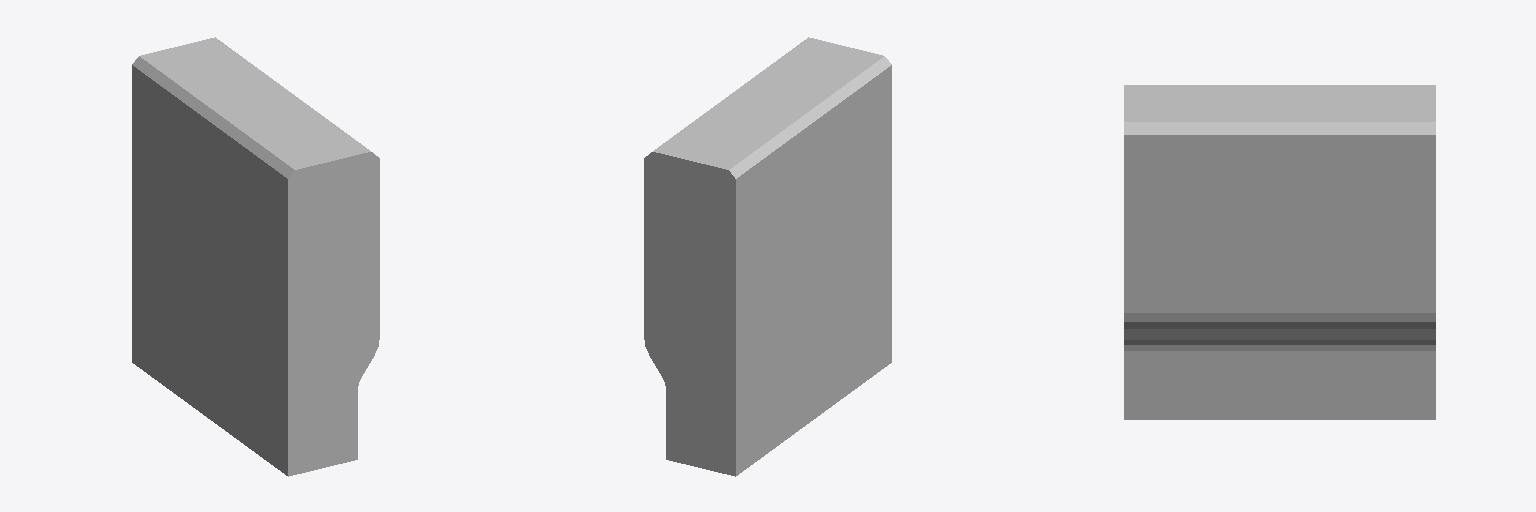
File: windpowergenerator_inside_2001_10.obj
The picture shows the model from 3 angles: view 1: azimuth 30°, elevation 25°; view 2: azimuth 150°, elevation 25°; view 3: azimuth 270°, elevation 25°; orthographic projection.
Parts seen in each view (by area): view 1: pasted__pCube70; view 2: pasted__pCube70; view 3: pasted__pCube70.
Part boxes in pixels (x1,y1,x2,y2): pasted__pCube70: (132,37,379,476); pasted__pCube70: (644,37,891,476); pasted__pCube70: (1124,85,1435,419).
Bounding box in the file's own units: 63.61 × 202 × 187.